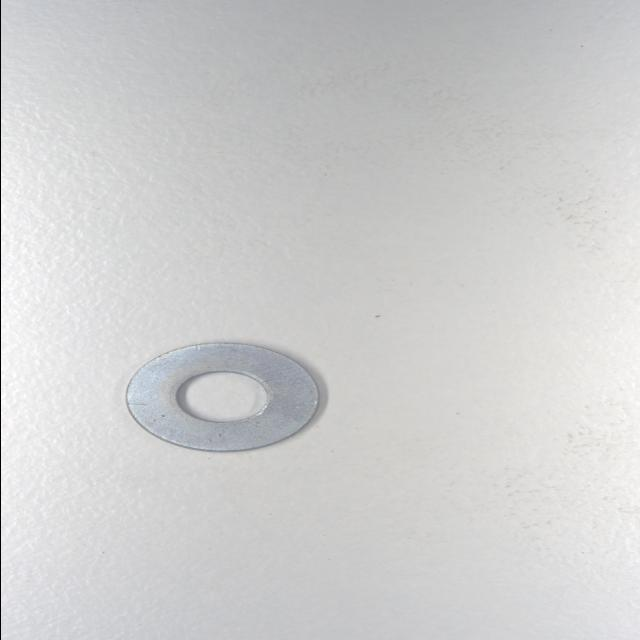washer: (123, 340, 323, 454)
